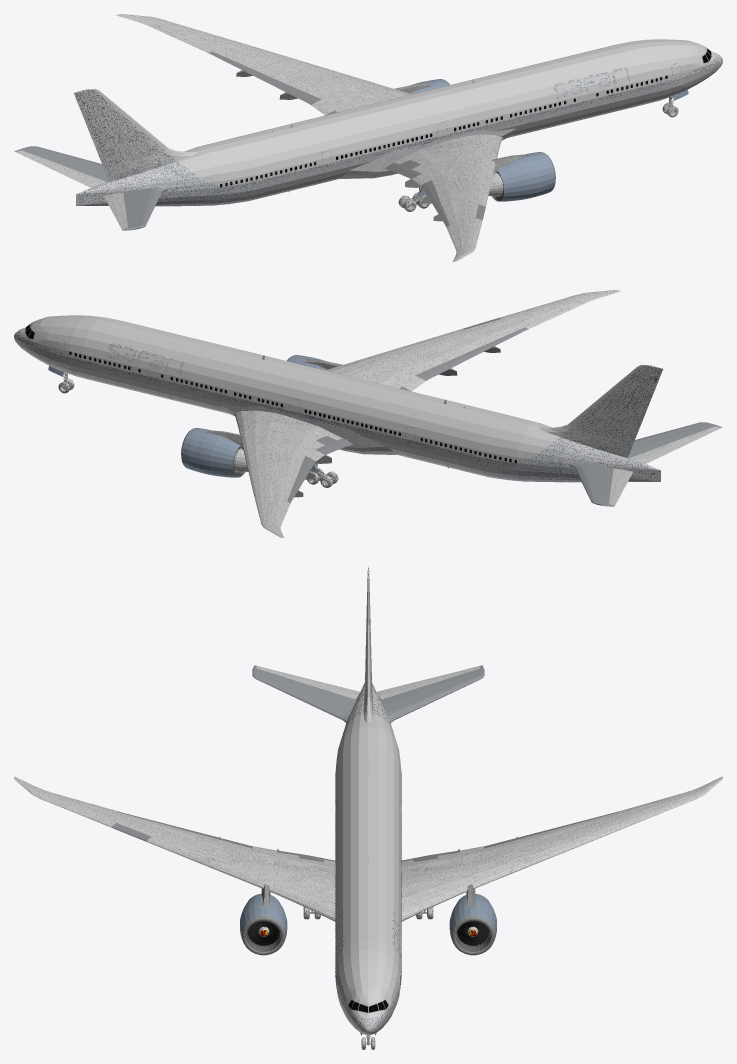
3 views of the same model, one above another, from view 1: azimuth 30°, elevation 25°; view 2: azimuth 150°, elevation 25°; view 3: azimuth 270°, elevation 25° (orthographic). The views are drawn at different scales.
Visible parts, largest first — view 1: mesh347_mesh347-geometry, mesh91.001_mesh91-geometry, mesh146.001_mesh146-geometry, mesh344.001_mesh344-geometry, mesh346.001_mesh346-geometry, mesh118.002_mesh118-geometry, mesh4.001_mesh4-geometry, mesh2.001_mesh2-geometry, mesh149.001_mesh149-geometry, mesh117.002_mesh117-geometry, mesh1.001_mesh1-geometry, mesh3.001_mesh3-geometry (+1 smaller); view 2: mesh347_mesh347-geometry, mesh146.001_mesh146-geometry, mesh91.001_mesh91-geometry, mesh344.001_mesh344-geometry, mesh346.001_mesh346-geometry, mesh62.002_mesh62-geometry, mesh2.001_mesh2-geometry, mesh4.001_mesh4-geometry, mesh94.001_mesh94-geometry, mesh61.002_mesh61-geometry, mesh3.001_mesh3-geometry, mesh1.001_mesh1-geometry (+1 smaller); view 3: mesh347_mesh347-geometry, mesh146.001_mesh146-geometry, mesh91.001_mesh91-geometry, mesh4.001_mesh4-geometry, mesh2.001_mesh2-geometry, mesh344.001_mesh344-geometry, mesh118.002_mesh118-geometry, mesh62.002_mesh62-geometry.
Part boxes in pixels (left/top/right/bottom): mesh347_mesh347-geometry: left=76, top=39, right=718, bottom=206; mesh91.001_mesh91-geometry: left=384, top=134, right=503, bottom=261; mesh146.001_mesh146-geometry: left=116, top=14, right=409, bottom=110; mesh344.001_mesh344-geometry: left=74, top=88, right=197, bottom=175; mesh346.001_mesh346-geometry: left=76, top=96, right=135, bottom=178; mesh118.002_mesh118-geometry: left=514, top=152, right=555, bottom=200; mesh4.001_mesh4-geometry: left=103, top=187, right=167, bottom=230; mesh2.001_mesh2-geometry: left=14, top=146, right=108, bottom=181; mesh149.001_mesh149-geometry: left=208, top=51, right=321, bottom=104; mesh117.002_mesh117-geometry: left=493, top=161, right=524, bottom=201; mesh1.001_mesh1-geometry: left=16, top=150, right=105, bottom=187; mesh3.001_mesh3-geometry: left=104, top=192, right=127, bottom=229; mesh347_mesh347-geometry: left=18, top=315, right=660, bottom=482; mesh146.001_mesh146-geometry: left=233, top=410, right=352, bottom=537; mesh91.001_mesh91-geometry: left=327, top=290, right=620, bottom=386; mesh344.001_mesh344-geometry: left=539, top=364, right=662, bottom=451; mesh346.001_mesh346-geometry: left=601, top=372, right=660, bottom=454; mesh62.002_mesh62-geometry: left=181, top=428, right=222, bottom=476; mesh2.001_mesh2-geometry: left=569, top=463, right=633, bottom=506; mesh4.001_mesh4-geometry: left=628, top=422, right=722, bottom=457; mesh94.001_mesh94-geometry: left=415, top=327, right=528, bottom=380; mesh61.002_mesh61-geometry: left=212, top=437, right=243, bottom=477; mesh3.001_mesh3-geometry: left=631, top=426, right=720, bottom=463; mesh1.001_mesh1-geometry: left=609, top=468, right=632, bottom=505; mesh347_mesh347-geometry: left=335, top=682, right=401, bottom=1034; mesh146.001_mesh146-geometry: left=401, top=776, right=722, bottom=921; mesh91.001_mesh91-geometry: left=14, top=776, right=335, bottom=921; mesh4.001_mesh4-geometry: left=252, top=665, right=359, bottom=722; mesh2.001_mesh2-geometry: left=377, top=665, right=484, bottom=722; mesh344.001_mesh344-geometry: left=363, top=566, right=373, bottom=722; mesh118.002_mesh118-geometry: left=240, top=899, right=287, bottom=941; mesh62.002_mesh62-geometry: left=449, top=899, right=496, bottom=941.
Size of the model in its own units: 0.7333 by 0.1842 by 0.6544.
